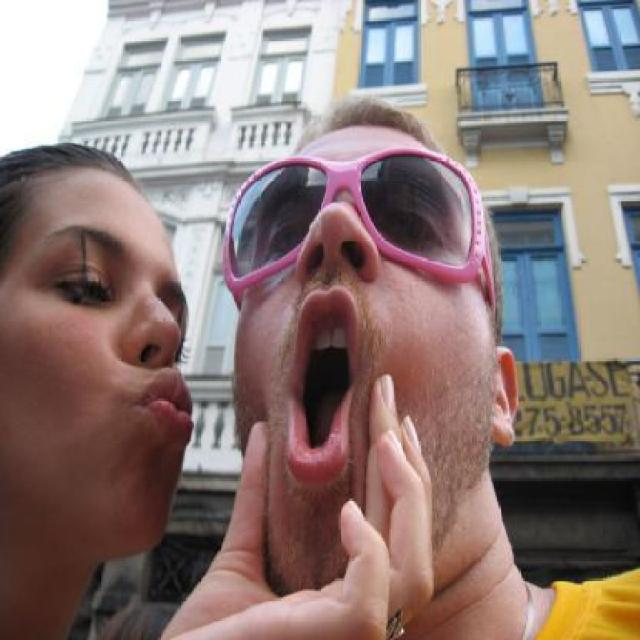face_nomask: (28, 216, 212, 498)
glasses: (219, 138, 490, 291)
hand_noglove: (209, 367, 443, 640)
head_nohelmet: (0, 129, 172, 241)
